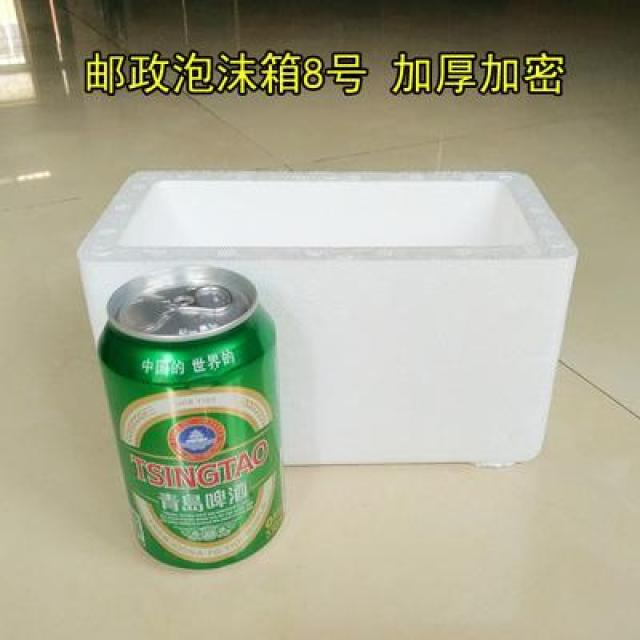styrofoam: (75, 165, 579, 470)
